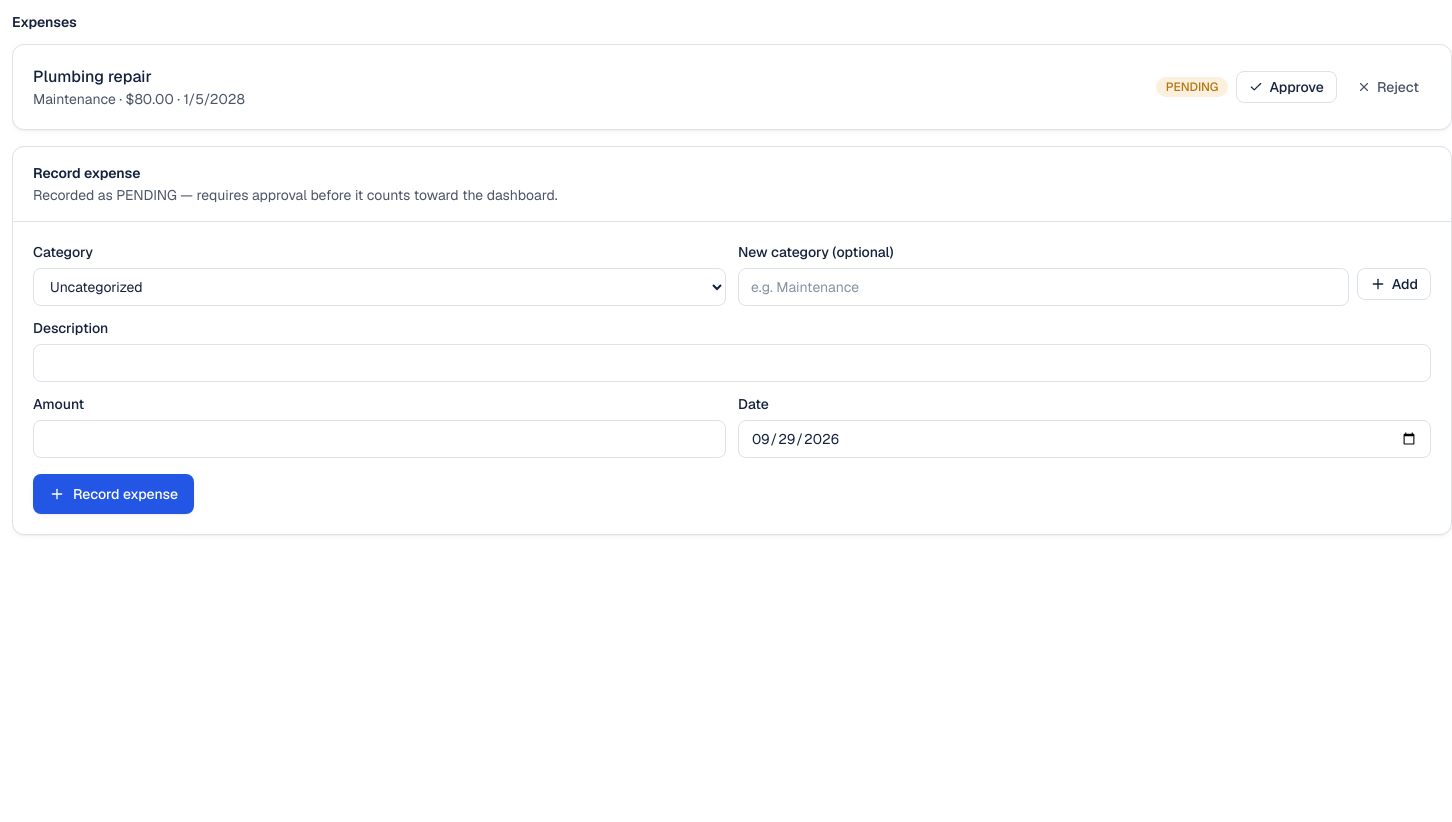
Test: ExpensesTab — approve/reject/mark-paid (mutations) › shows a danger toast with the ApiError message when approve fails
Click the button "Approve" at (1287, 87), box x1=1236 y1=71 x2=1337 y2=103
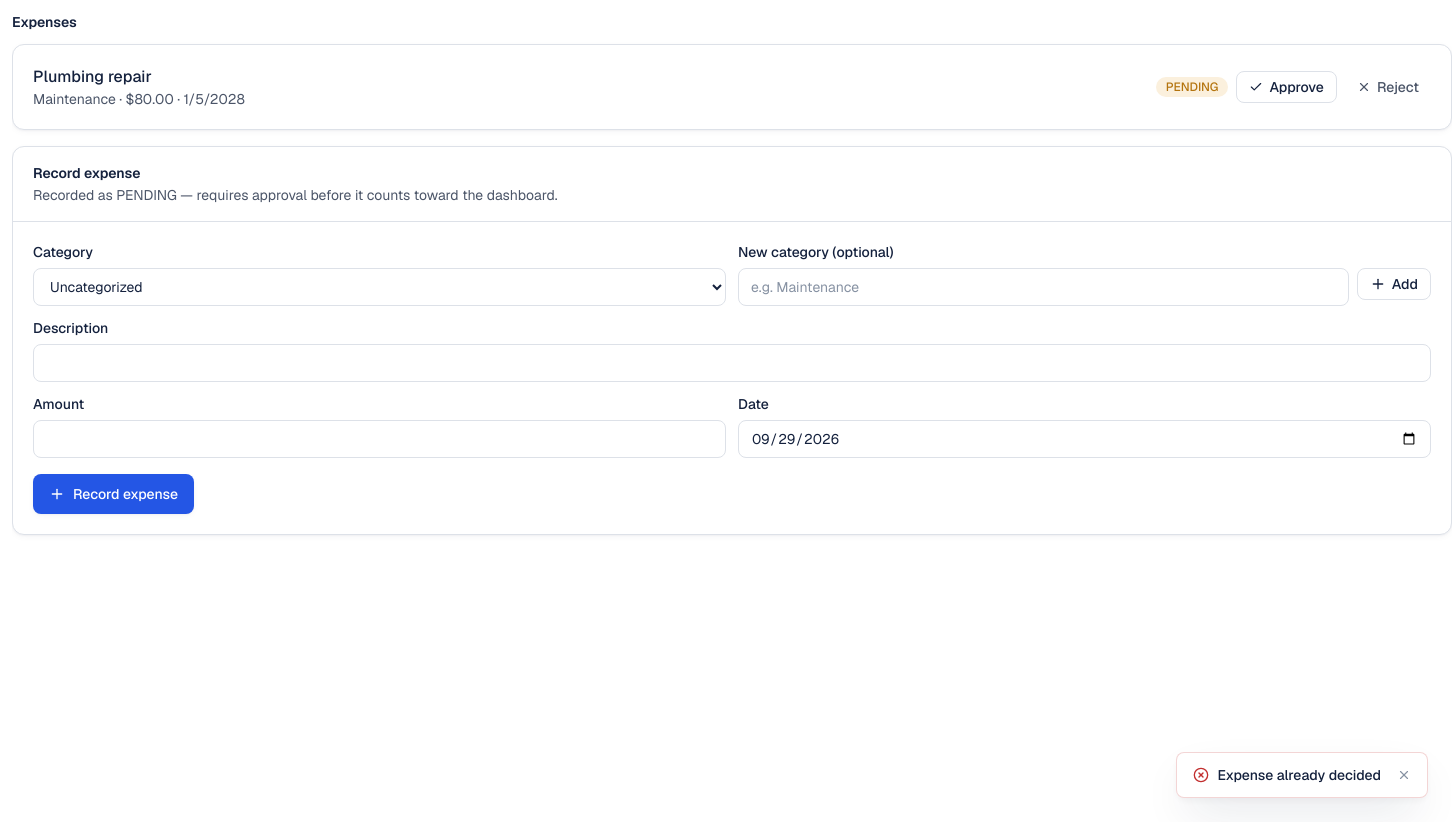
Now the text "Expense already decided" is shown, box x1=1217 y1=765 x2=1381 y2=785
